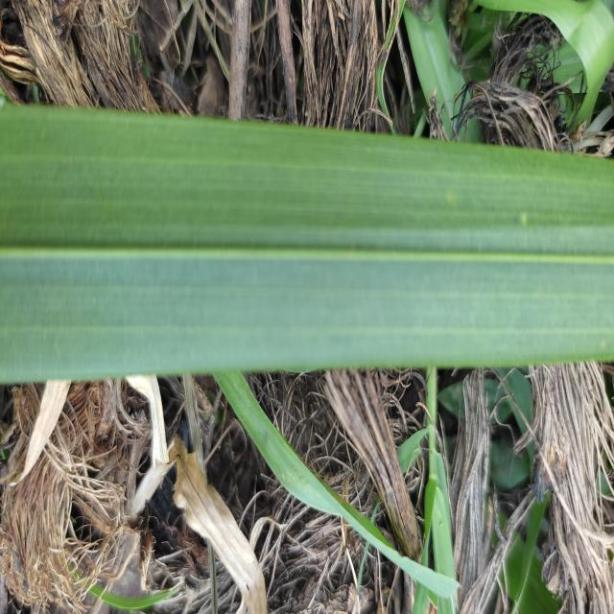Healthy: (1, 101, 614, 387)
